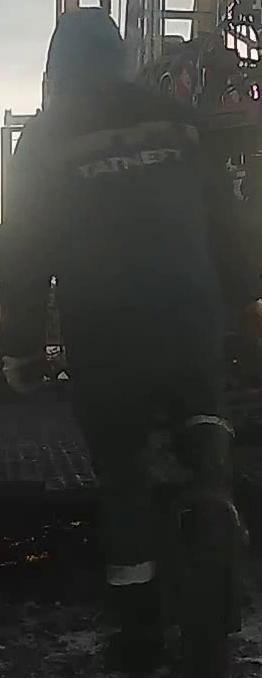gloves: (3, 350, 41, 400), (244, 292, 262, 331)
vest: (37, 101, 243, 386)
